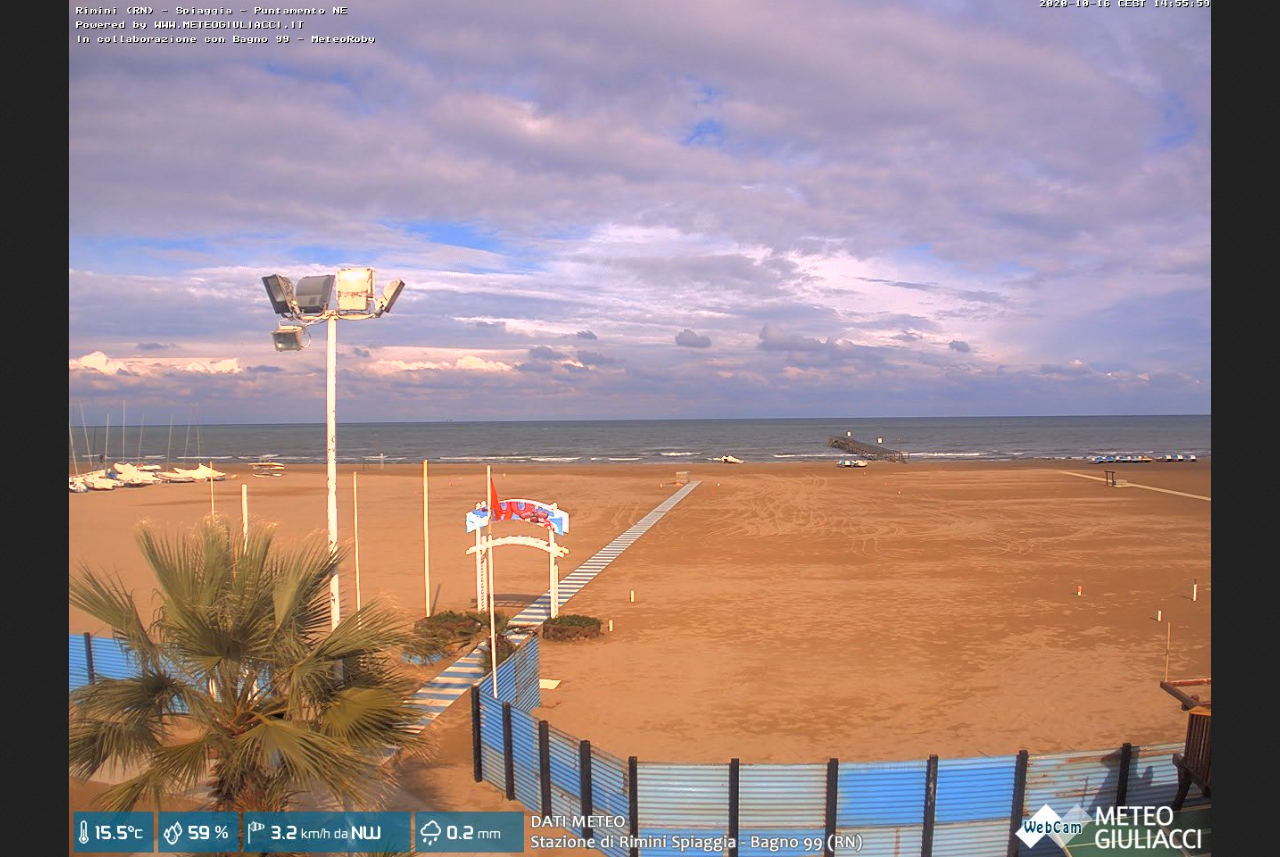no: (485, 470, 504, 521)
